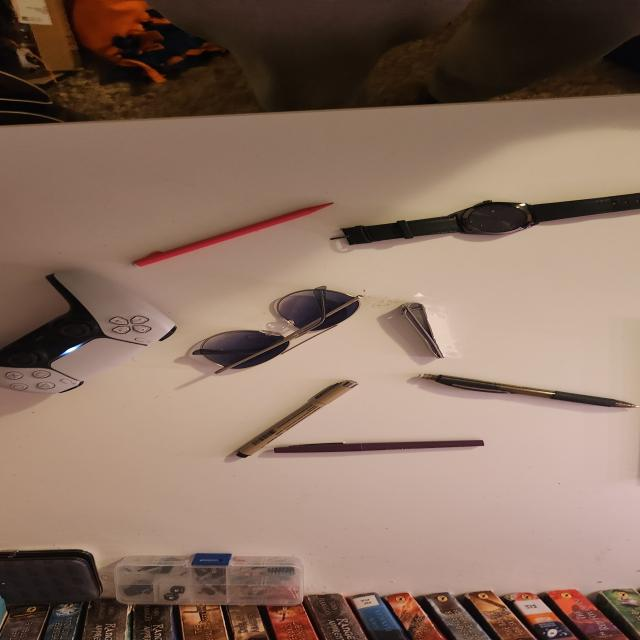Controller: (0, 290, 104, 371)
Glasses: (202, 286, 361, 367)
Pen: (139, 204, 324, 266), (225, 381, 359, 463), (407, 374, 633, 410), (274, 440, 484, 453)
Watch: (356, 198, 637, 238)
